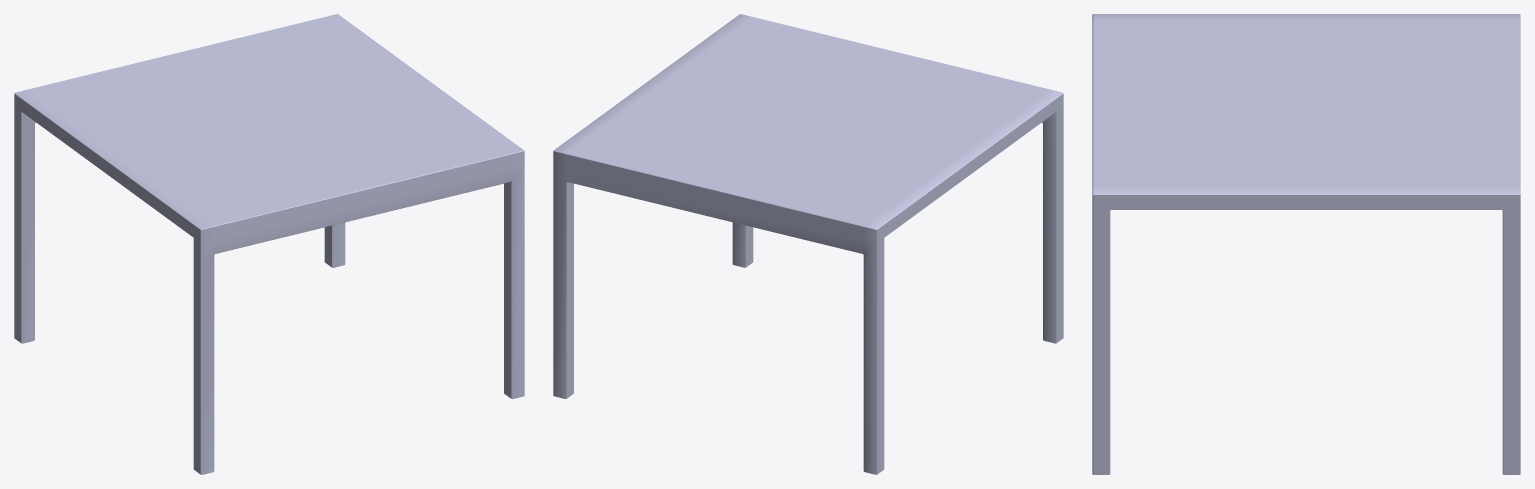
File: SM_stand_3.fbx
3 views of the same model, side by side, from view 1: azimuth 30°, elevation 25°; view 2: azimuth 150°, elevation 25°; view 3: azimuth 270°, elevation 25° (orthographic). The views are drawn at different scales.
Parts seen in each view (by area): view 1: SM_stand_3; view 2: SM_stand_3; view 3: SM_stand_3.
Boxes of the visible parts, <box> form: SM_stand_3: <box>14,14,524,474</box>; SM_stand_3: <box>553,14,1063,474</box>; SM_stand_3: <box>1092,14,1520,474</box>.
Bounding box in the file's own units: 120 × 87 × 120.
